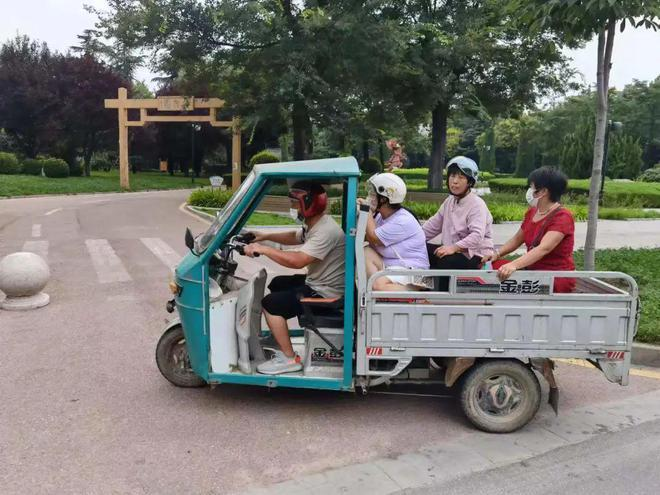driver: (247, 167, 349, 382)
overloading: (138, 123, 642, 435)
passenger: (348, 176, 439, 300), (429, 158, 500, 278), (515, 161, 577, 295)
